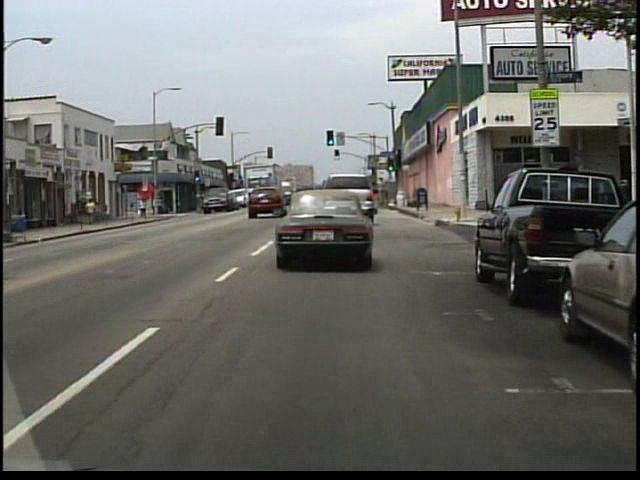person: (87, 197, 97, 225), (95, 200, 104, 224), (141, 198, 149, 218)
